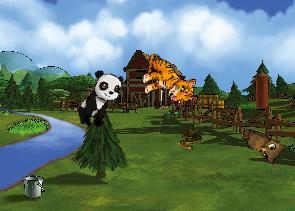owl: (235, 127, 288, 167)
panda: (73, 66, 126, 133)
tiger: (139, 53, 198, 104)
